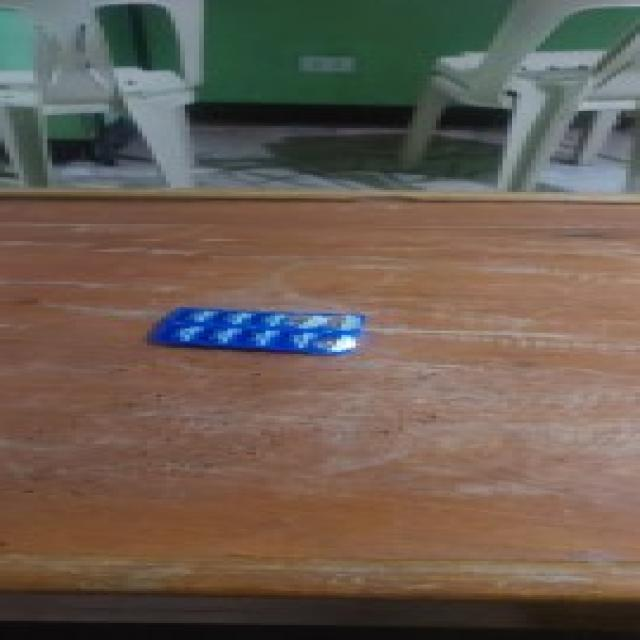Cacat: (144, 307, 368, 354)
Kemasan: (284, 312, 360, 332), (320, 335, 360, 351)
